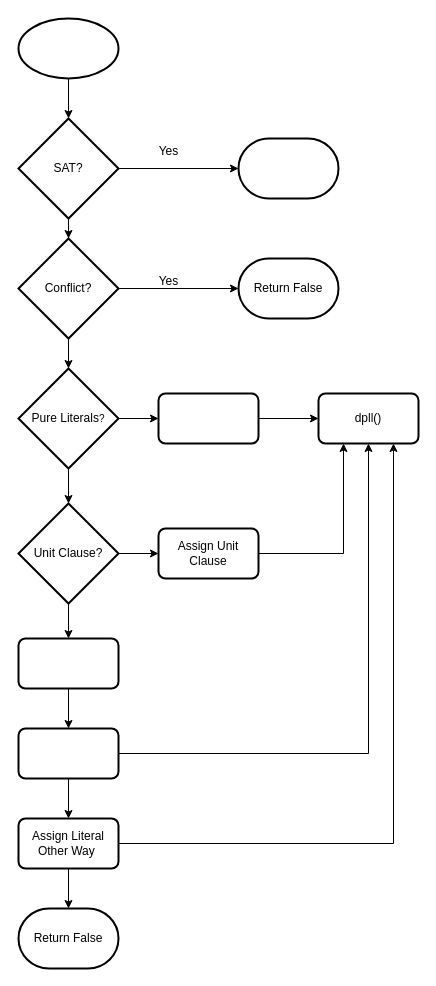
Image size: 436x986. Some labels were removed from this diagram. Each missing label, with the centre of its shape:
"Assign Literal" belongs at pixel 68 753.
"Assign Pure literal" belongs at pixel 208 418.
"Choose Literal to Assign" belongs at pixel 68 663.
"Return True" belongs at pixel 288 168.
"Start (dpll())" belongs at pixel 68 48.
